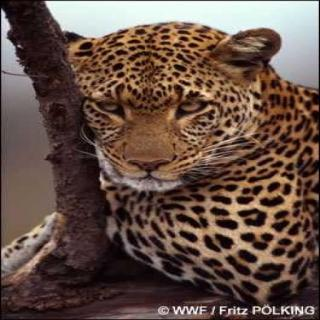Leopard: (58, 0, 320, 289)
